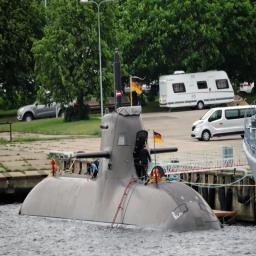submarine: (19, 48, 226, 234)
